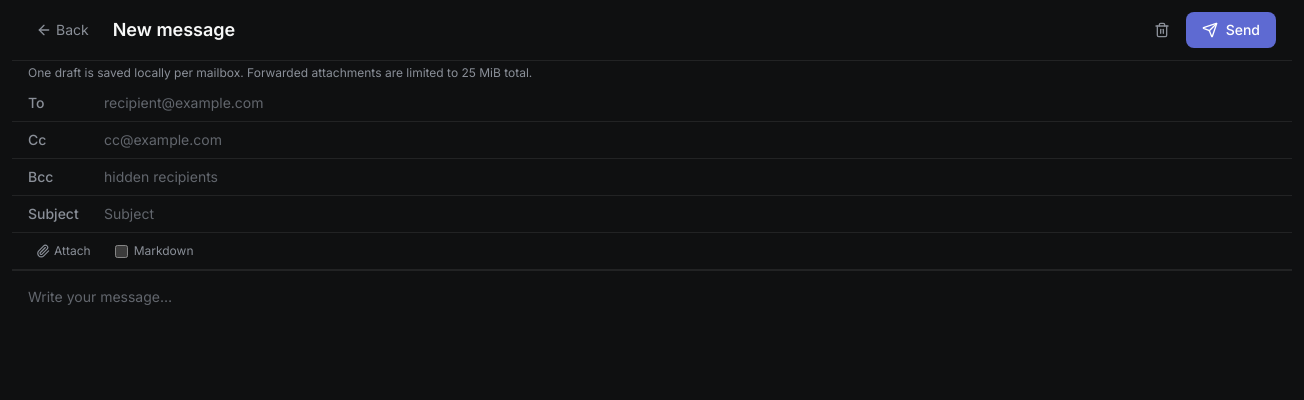
Test: sending › no recipient: error, no request
This screenshot has width=1304, height=400.
Click the button "Send" at x=1231, y=30, box [1186,12,1276,48]
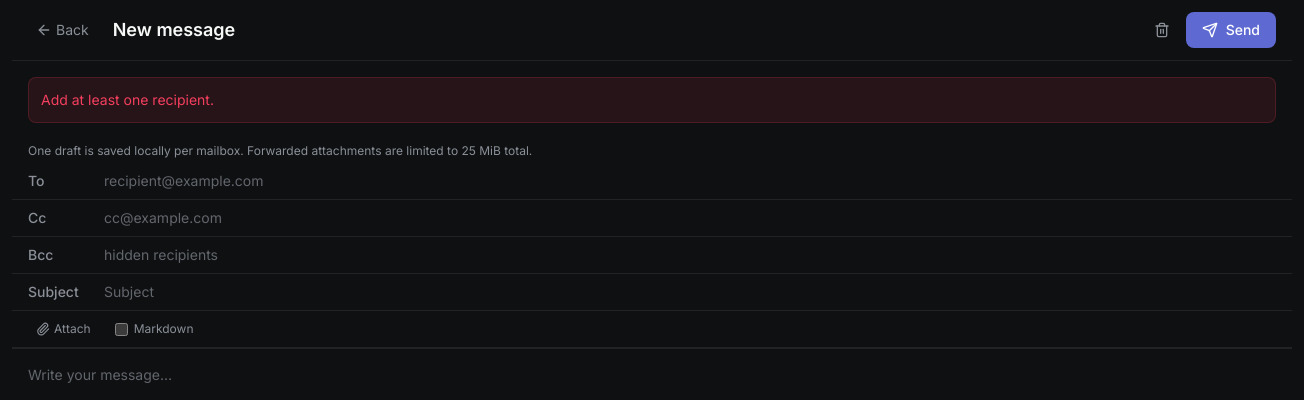
Now the text "Add at least one recipient." is shown, box [28,77,1276,123]
